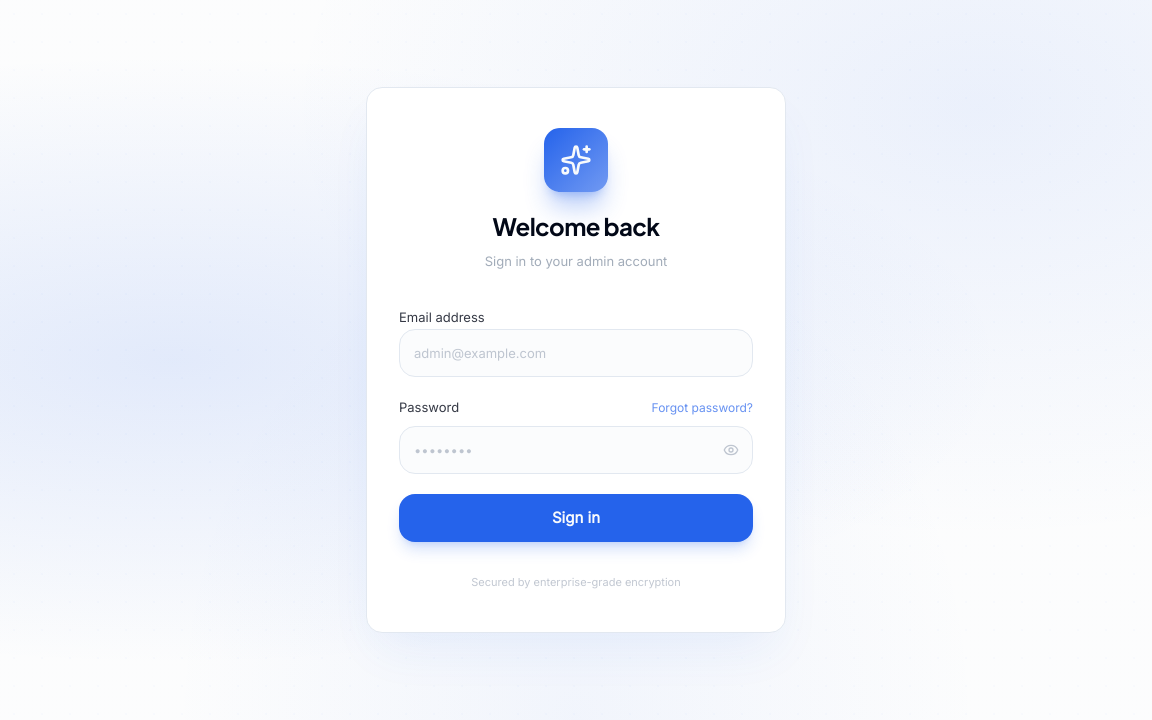
Test case: LoginPage › shows validation errors for empty form
The width and height of the screenshot is (1152, 720).
Click the button "Sign in": (576, 518) top-left (399, 494), bottom-right (753, 542)
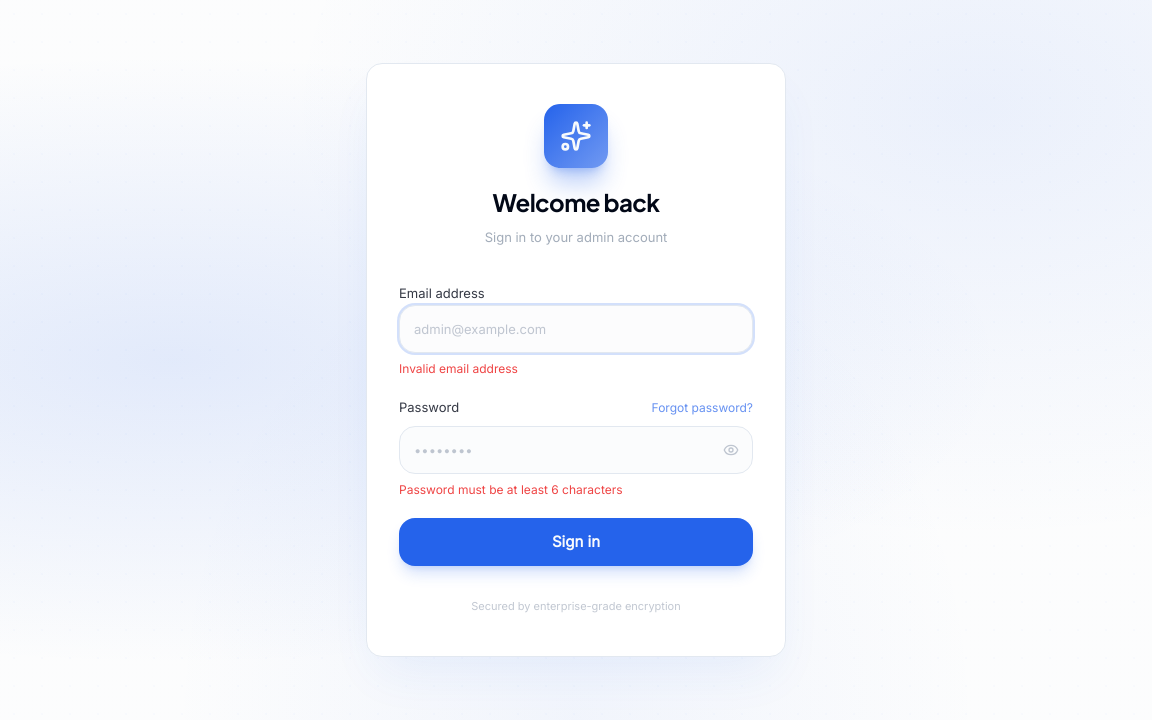
Check: the text "Invalid email address" is shown, box top-left (399, 361), bottom-right (518, 376)
